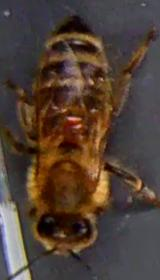varroa_mite: (54, 110, 94, 138)
